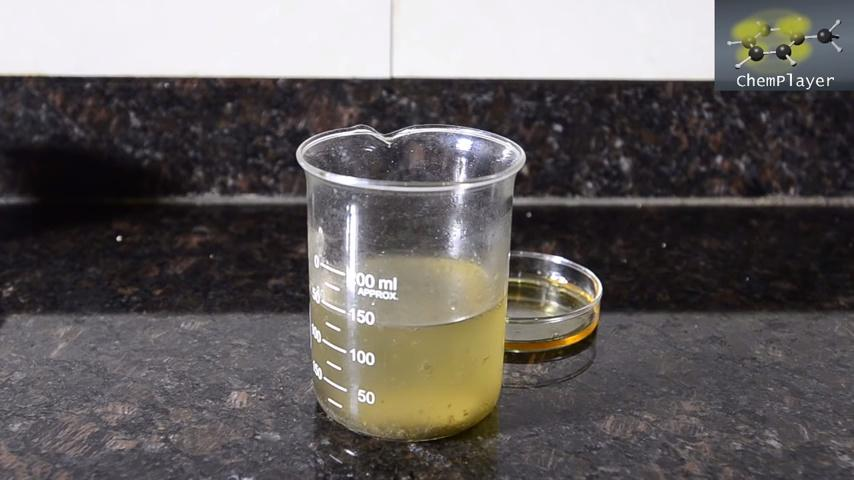Beaker: (300, 125, 554, 443)
